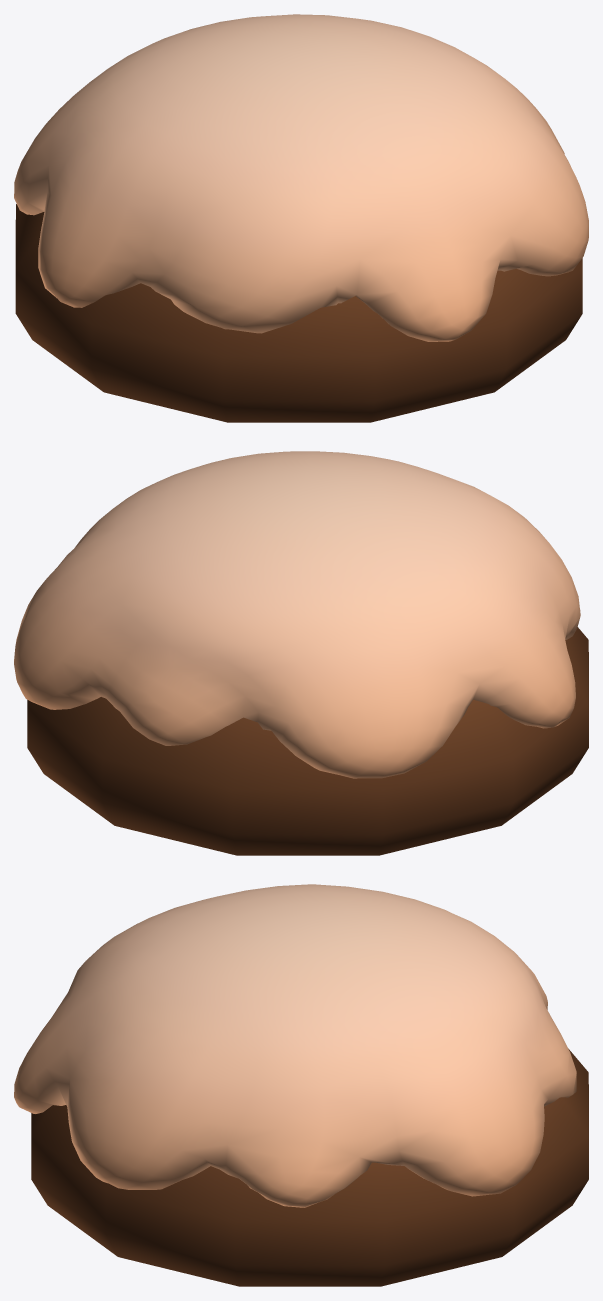
Rendered from candy_choco_19.fbx.
The picture shows the model from 3 angles, top to bottom: view 1: azimuth 30°, elevation 25°; view 2: azimuth 150°, elevation 25°; view 3: azimuth 270°, elevation 25°; orthographic projection.
Visible parts, largest first — view 1: c_c_19; view 2: c_c_19; view 3: c_c_19.
Boxes of the visible parts, x1,y1,x2,y2 form: c_c_19: (14,14,588,422); c_c_19: (14,451,588,855); c_c_19: (14,884,588,1286).
Size of the model in its own units: 147 by 73.19 by 148.
